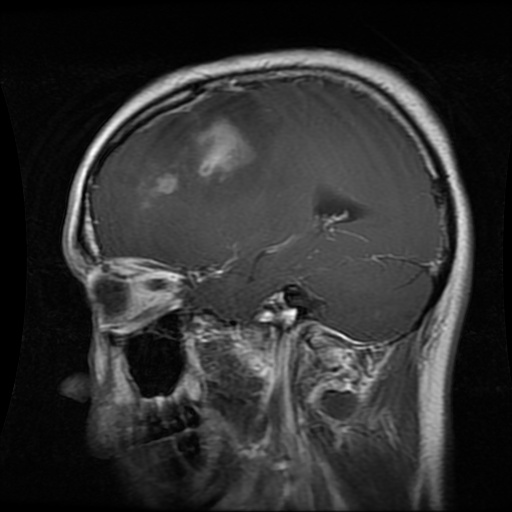glioma: (140, 92, 283, 210)
